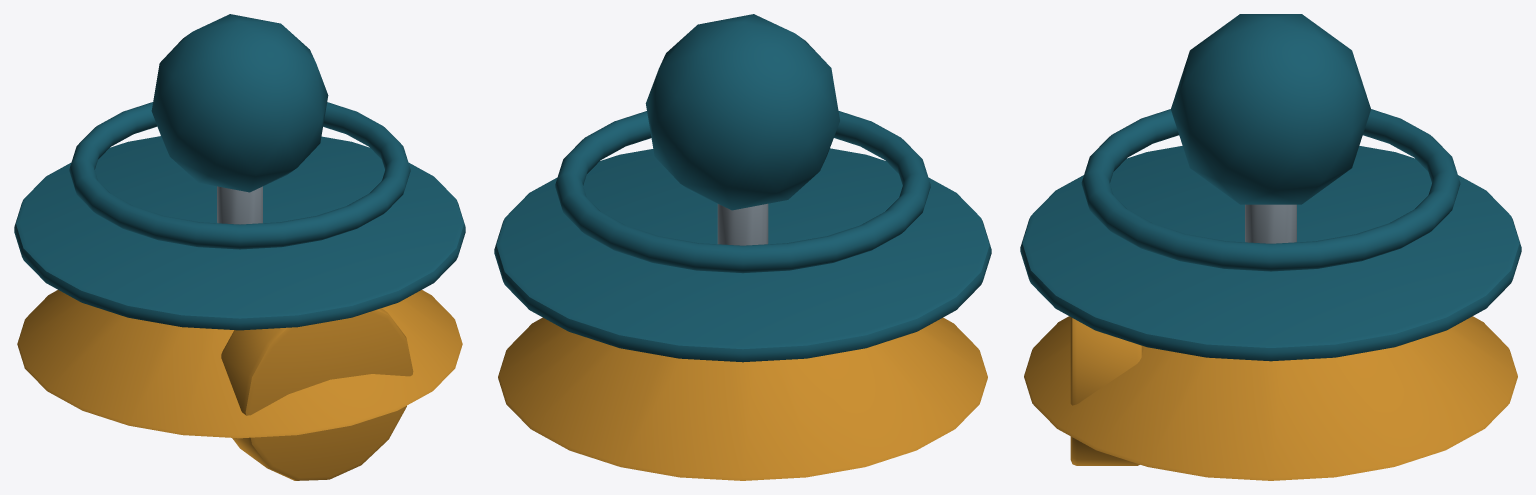
File: BubbleA.obj
The picture shows the model from 3 angles, left to right: view 1: azimuth 30°, elevation 25°; view 2: azimuth 150°, elevation 25°; view 3: azimuth 270°, elevation 25°; orthographic projection. The views are drawn at different scales.
Visible parts, largest first — view 1: BubbleA; view 2: BubbleA; view 3: BubbleA.
Part boxes in pixels (x1,y1,x2,y2): BubbleA: (14, 14, 465, 480); BubbleA: (494, 14, 991, 480); BubbleA: (1020, 14, 1521, 480).
Size of the model in its own units: 1.1 by 1.06 by 1.1.
